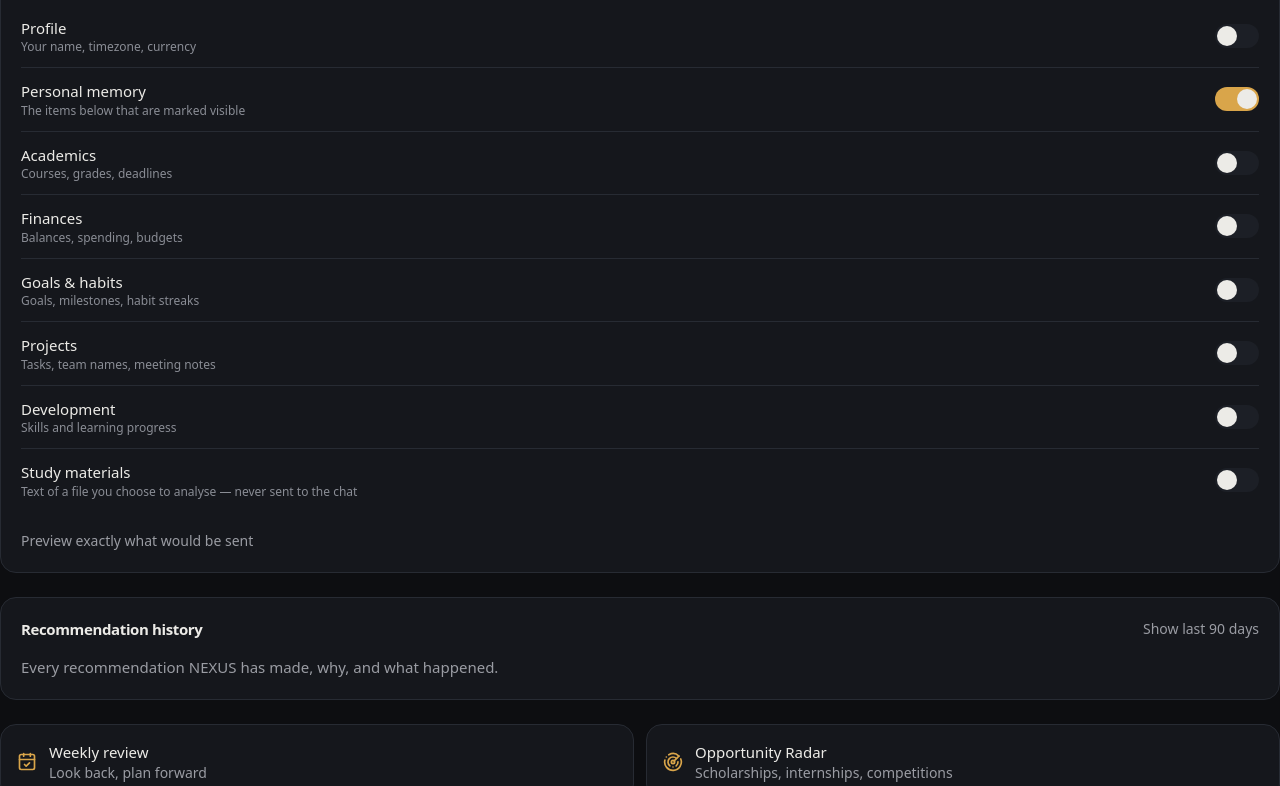
Test case: IntelligencePage › labels guesses, offers confirm/reject, and the preview withholds sensitive items
(page scrolled)
What coordinates should you click on to do the following:
click the button "Preview exactly what would be sent"
I would click on:
 (137, 540)
Its box is [21,530,253,550].
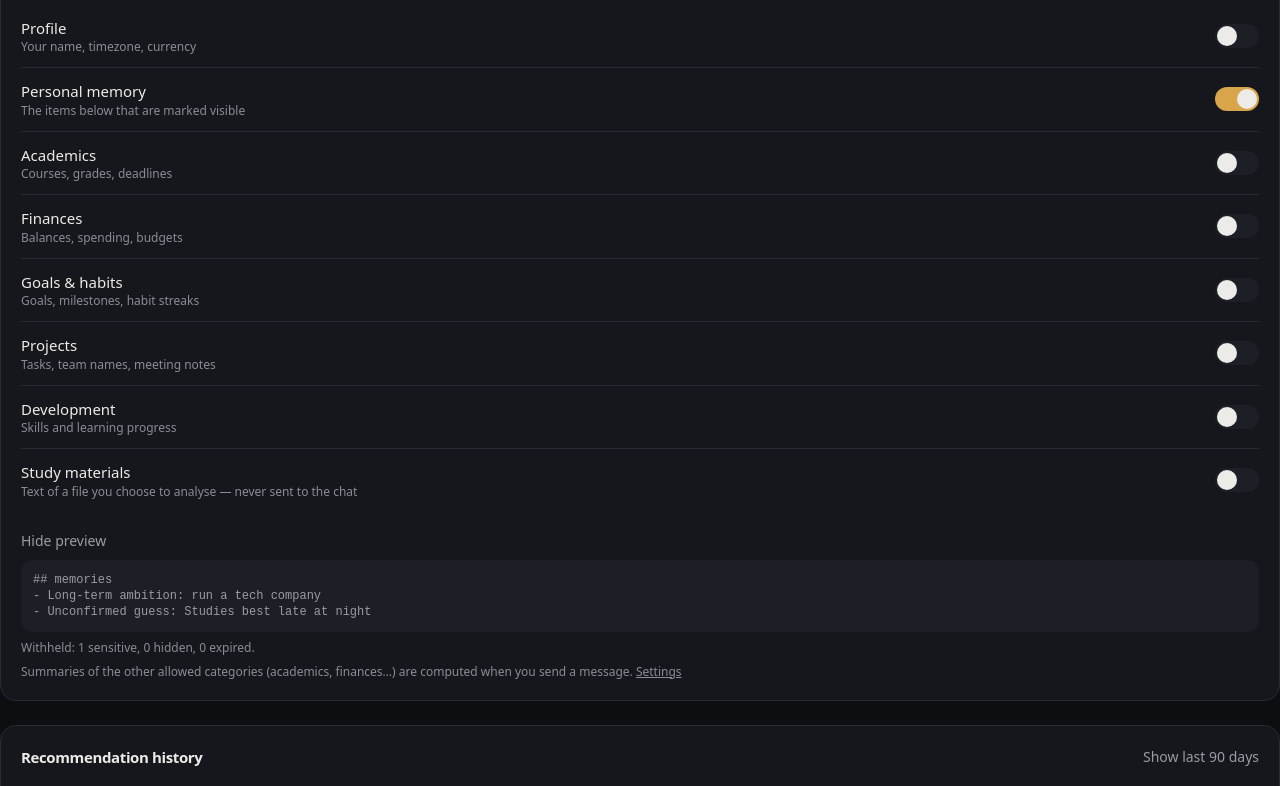
expect the text "run a tech company" is shown: met, box [33,572,372,618]
expect the text "Unconfirmed guess: Studies best late at night" is shown: met, box [33,572,372,618]
expect the text "Withheld: 1 sensitive, 0 hidden, 0 expired." is shown: met, box [21,638,255,656]
